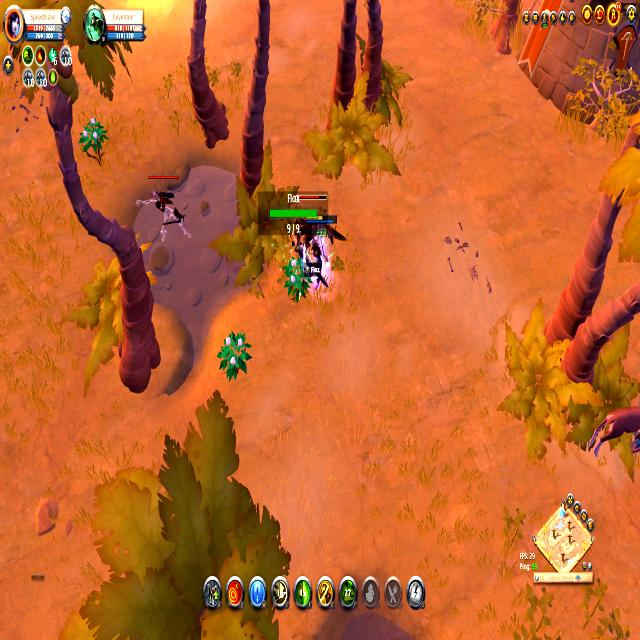hide: (219, 328, 250, 382), (284, 251, 309, 304), (80, 117, 106, 160)
ore: (130, 166, 194, 250), (289, 191, 349, 264), (586, 392, 640, 465)
red: (303, 212, 337, 294)
